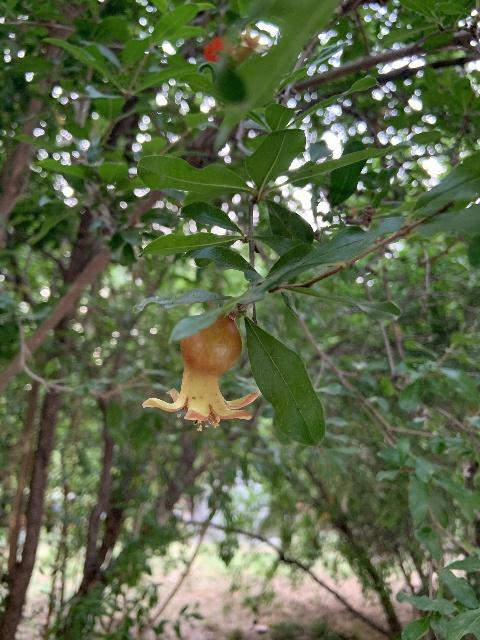early-fruit: (141, 312, 259, 428)
